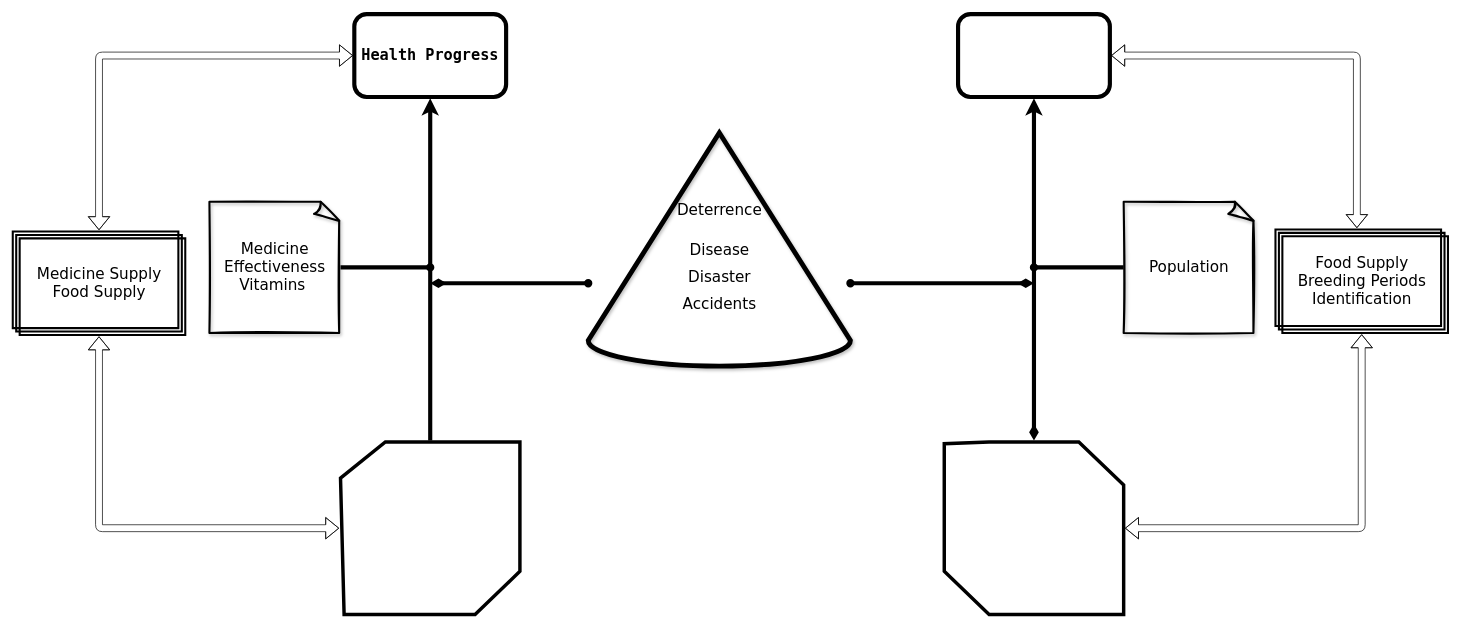
Some shapes in this 1461 by 628 pixel diagram are drawn without their labels. Here are the shapes that lost their labels. From the top down, the centre of each, then its label:
At point 1034,55: "Production Progress".
At point 429,528: "Sanitary Healthcare Food Cycles".
At point 1033,528: "Meat Production Rabbit Production Breeding".
